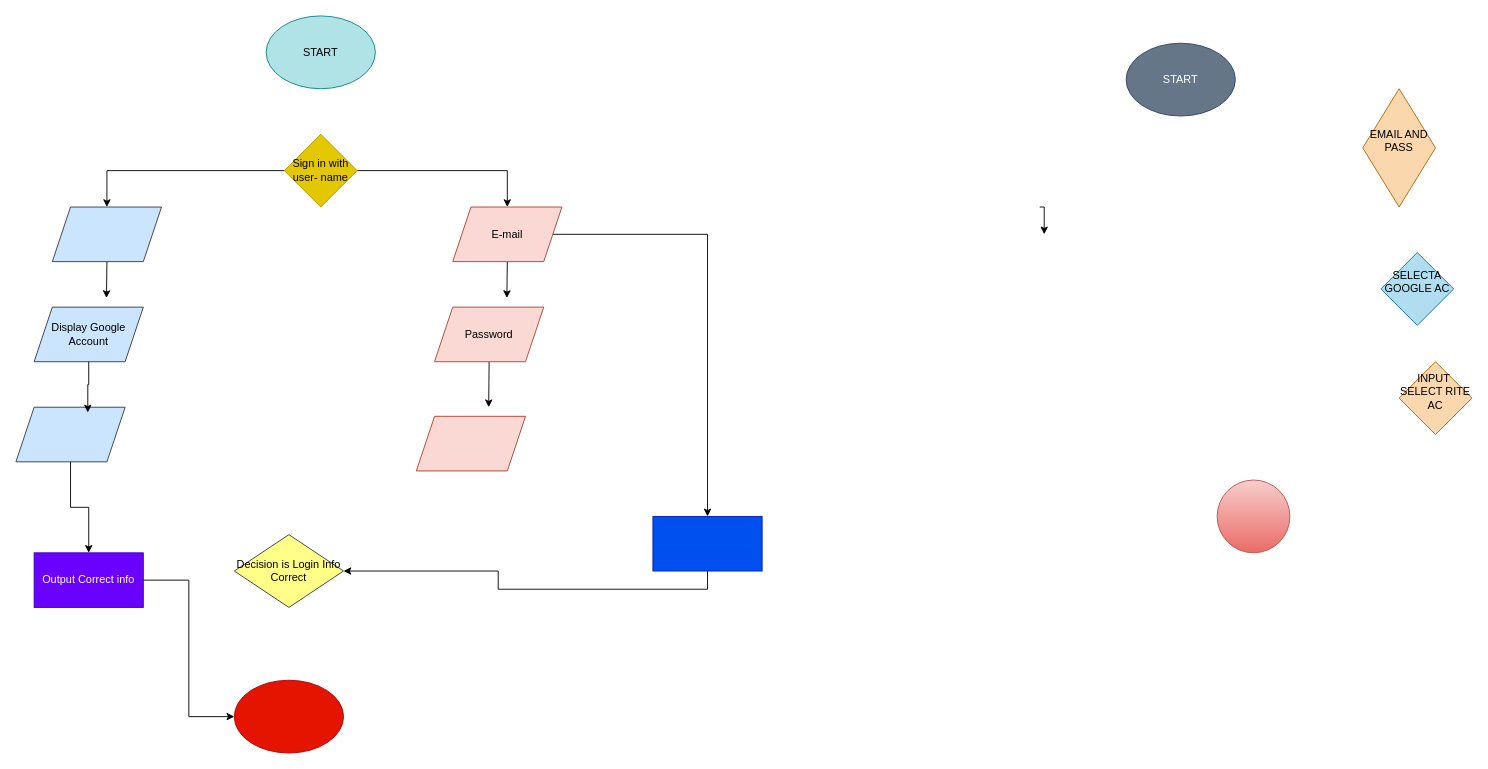
Image size: 1488x769. Some labels were removed from this diagram. The centre of each missing label's shape, as x and y in pixels:
Click on Google Sign in: (x=106, y=234)
END: (x=288, y=716)
Input Select Google Account: (x=70, y=434)
LOG IN: (x=1253, y=516)
output Invalid: (x=707, y=543)
Press log-in Button: (x=470, y=443)
